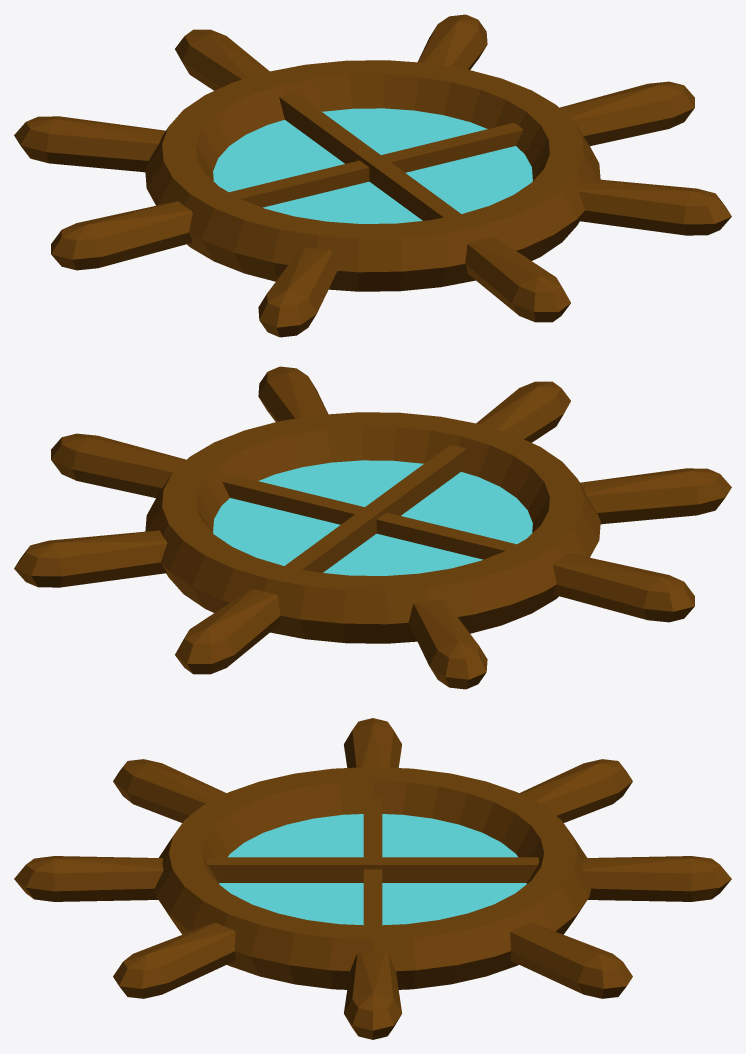
The model's file is window_pirate.fbx.
3 views of the same model, one above another, from view 1: azimuth 30°, elevation 25°; view 2: azimuth 150°, elevation 25°; view 3: azimuth 270°, elevation 25° (orthographic). The views are drawn at different scales.
Visible parts, largest first — view 1: Sphere.001, Circle; view 2: Sphere.001, Circle; view 3: Sphere.001, Circle.
Boxes of the visible parts, box(x1,y1,x2,y2) form: Sphere.001: box(14, 14, 731, 337); Circle: box(213, 108, 532, 223); Sphere.001: box(14, 366, 731, 689); Circle: box(213, 460, 532, 575); Sphere.001: box(14, 718, 731, 1039); Circle: box(219, 814, 526, 925).
Size of the model in its own units: 765 by 60.62 by 765.
